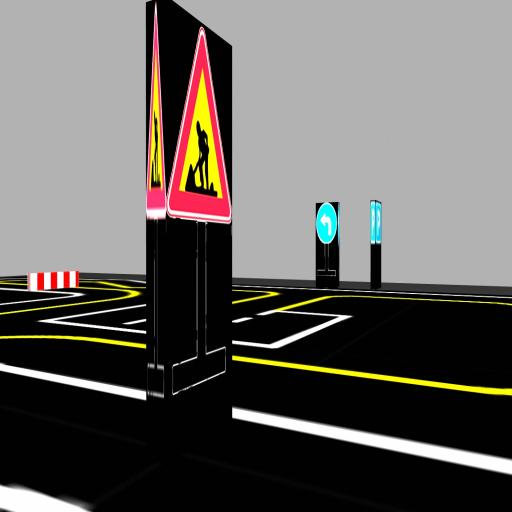Construction: (167, 27, 231, 223), (146, 4, 166, 219)
